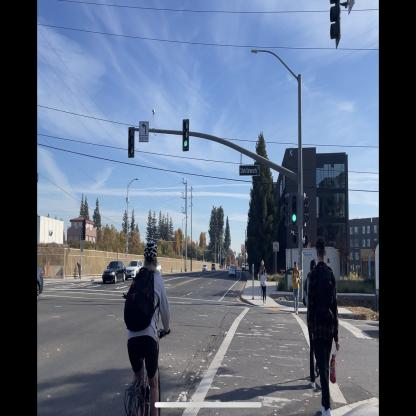green: (290, 191, 299, 228), (182, 118, 190, 152)
left-red: (127, 126, 136, 158)
